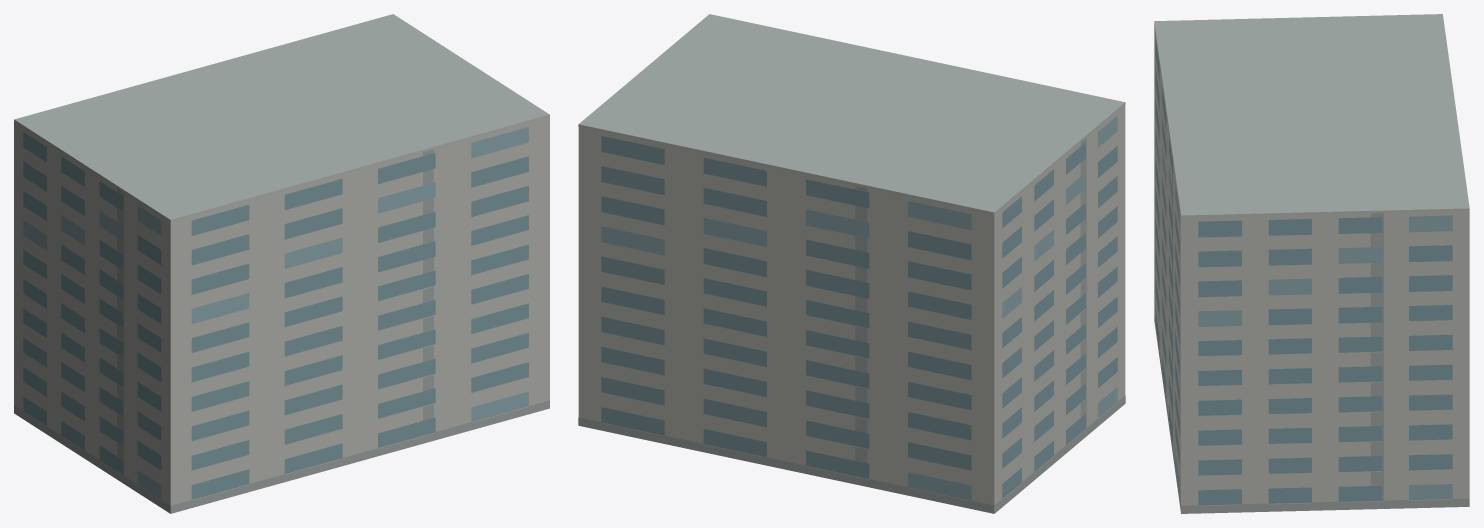
File: residential-c087d0f4-dc7f-4f43-a045-509323539e86.glb
3 renders of one model, left to right at view 1: azimuth 30°, elevation 25°; view 2: azimuth 150°, elevation 25°; view 3: azimuth 270°, elevation 25°, orthographic. The views are drawn at different scales.
Parts seen in each view (by area): view 1: residential-c087d0f4-dc7f-4f43-a045-509323539e86.tmp; view 2: residential-c087d0f4-dc7f-4f43-a045-509323539e86.tmp; view 3: residential-c087d0f4-dc7f-4f43-a045-509323539e86.tmp.
Part boxes in pixels (x1,y1,x2,y2): residential-c087d0f4-dc7f-4f43-a045-509323539e86.tmp: (14, 14, 549, 513); residential-c087d0f4-dc7f-4f43-a045-509323539e86.tmp: (578, 14, 1125, 513); residential-c087d0f4-dc7f-4f43-a045-509323539e86.tmp: (1154, 14, 1469, 513).
Size of the model in its own units: 43.46 by 30 by 28.75.
